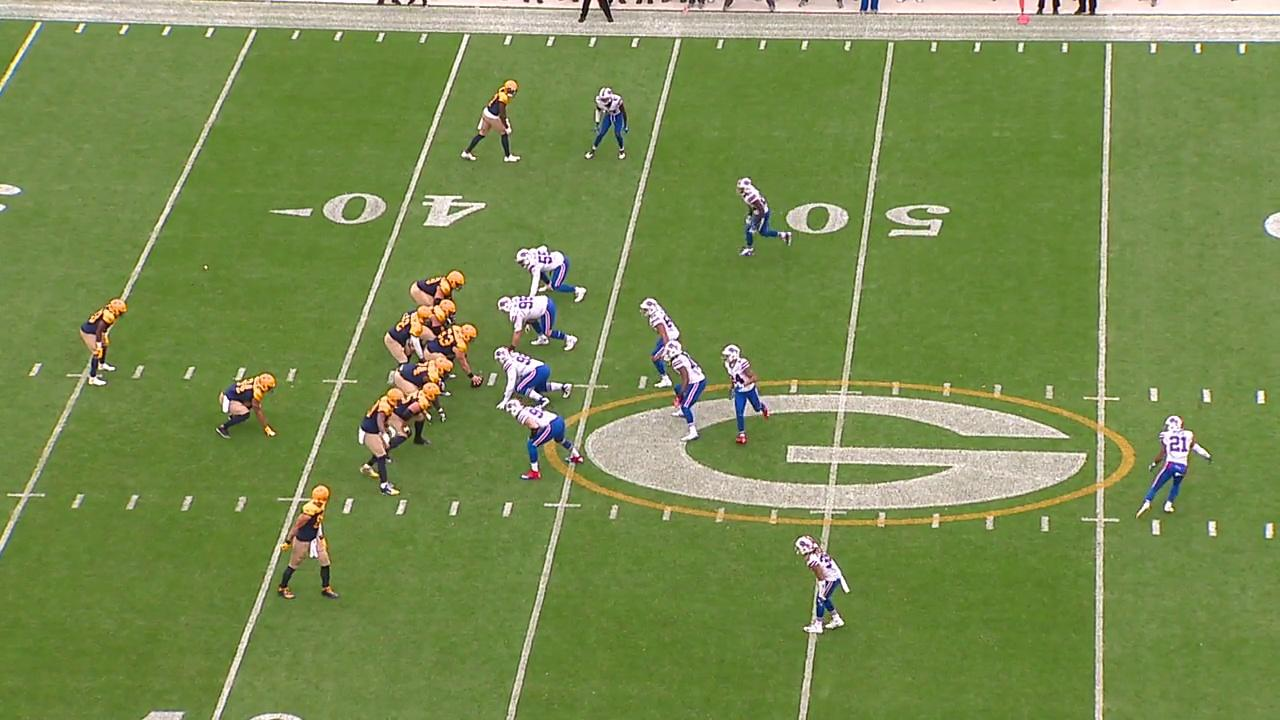defense: (1140, 418, 1210, 521), (505, 403, 587, 482), (721, 342, 772, 447), (797, 538, 851, 634), (495, 350, 574, 411), (497, 293, 577, 352), (660, 343, 706, 441), (515, 242, 586, 304), (738, 177, 792, 258), (642, 293, 679, 386), (590, 82, 629, 162)
oline: (425, 325, 482, 386), (391, 384, 439, 447), (409, 268, 465, 306), (398, 360, 452, 393), (417, 299, 457, 338)
qb: (380, 304, 431, 366)
skill: (273, 482, 343, 606), (211, 364, 285, 443), (461, 77, 528, 160), (71, 296, 127, 389), (359, 389, 402, 498)
